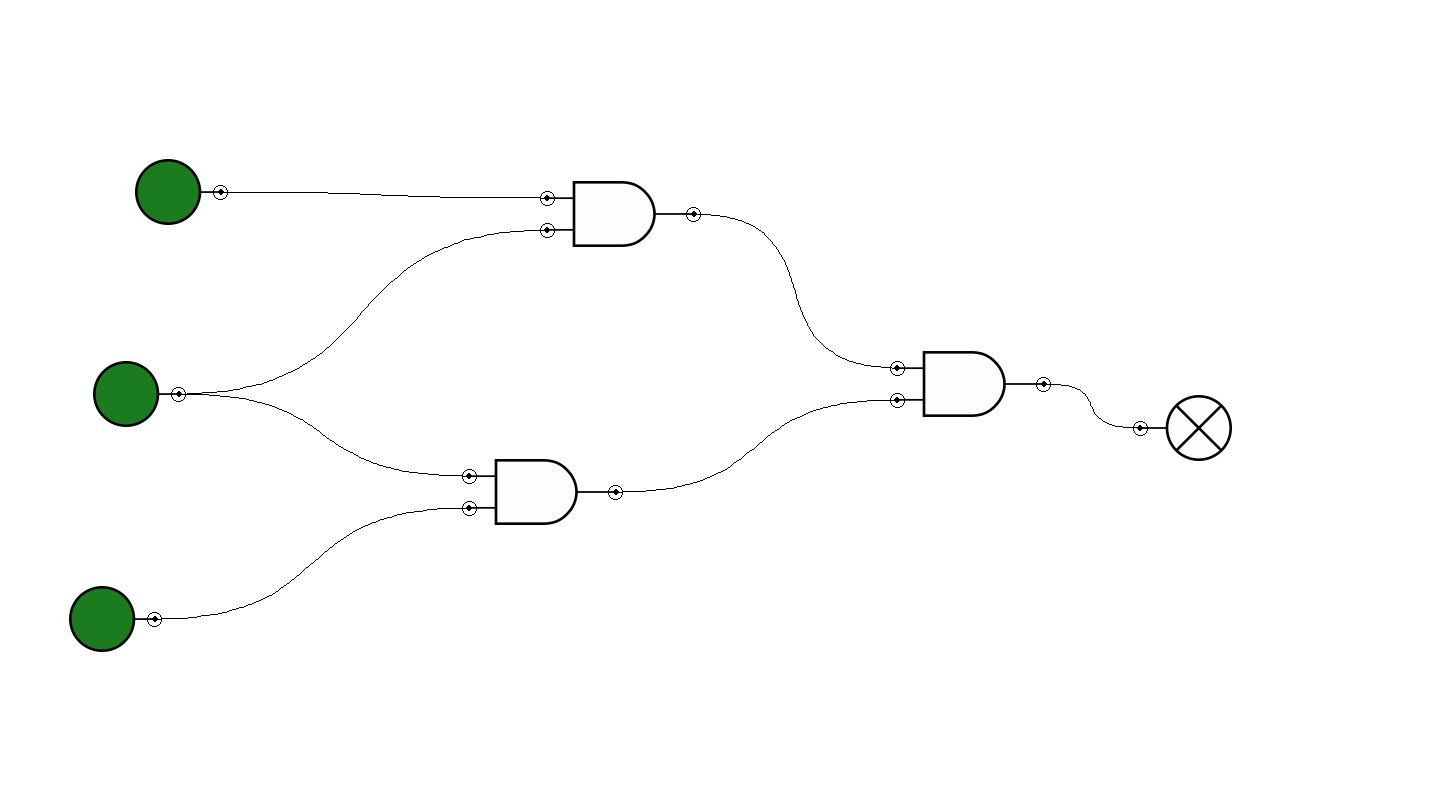and: (890, 351, 1051, 417), (462, 459, 623, 525), (540, 181, 701, 247)
bulb: (1133, 395, 1232, 461)
switch_True: (69, 586, 162, 652), (93, 361, 186, 427), (135, 159, 228, 225)
